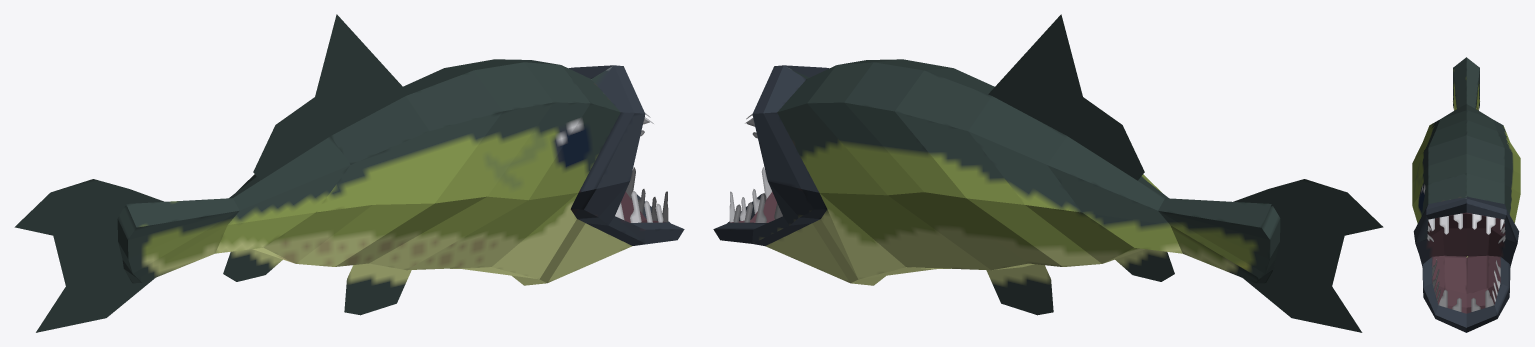
The model's file is fish.obj.
3 renders of one model, left to right at view 1: azimuth 30°, elevation 25°; view 2: azimuth 150°, elevation 25°; view 3: azimuth 270°, elevation 25°, orthographic. The views are drawn at different scales.
Parts seen in each view (by area): view 1: pPlane5, pPlane3, pPlane2, pPlane4, pPlane6, pPlane1; view 2: pPlane5, pPlane3, pPlane2, pPlane4, pPlane6, pPlane1; view 3: pPlane5, pPlane1.
Boxes of the visible parts, bbox=[...] form: pPlane5: bbox=[117, 59, 684, 285]; pPlane3: bbox=[14, 179, 164, 332]; pPlane2: bbox=[253, 14, 409, 180]; pPlane4: bbox=[344, 264, 411, 315]; pPlane6: bbox=[223, 249, 282, 281]; pPlane1: bbox=[615, 113, 668, 222]; pPlane5: bbox=[713, 59, 1280, 285]; pPlane3: bbox=[1233, 179, 1383, 332]; pPlane2: bbox=[988, 14, 1144, 180]; pPlane4: bbox=[986, 264, 1053, 315]; pPlane6: bbox=[1115, 249, 1174, 281]; pPlane1: bbox=[729, 114, 782, 222]; pPlane5: bbox=[1412, 57, 1520, 332]; pPlane1: bbox=[1427, 213, 1505, 311].
Size of the model in its own units: 6.5 by 3 by 1.44.
1 material, 1 textured.
